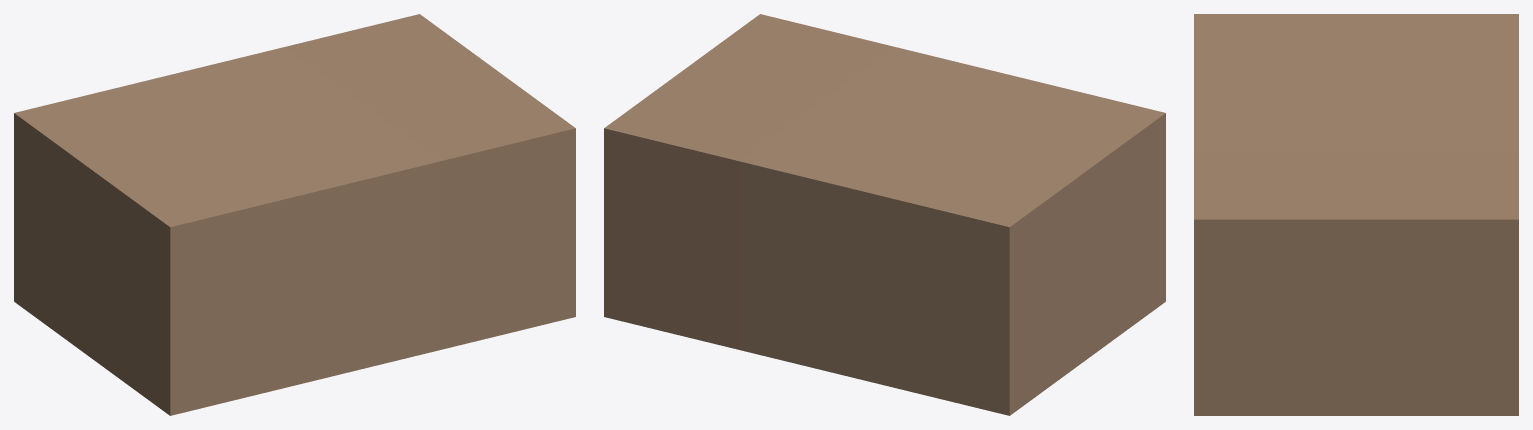
Rendered from yacimiento_arcilla_04.glb.
3 views of the same model, side by side, from view 1: azimuth 30°, elevation 25°; view 2: azimuth 150°, elevation 25°; view 3: azimuth 270°, elevation 25° (orthographic). The views are drawn at different scales.
Parts seen in each view (by area): view 1: yacimiento_arcilla_04; view 2: yacimiento_arcilla_04; view 3: yacimiento_arcilla_04.
Boxes of the visible parts, left/top/right/bottom form: yacimiento_arcilla_04: left=14, top=14, right=575, bottom=415; yacimiento_arcilla_04: left=604, top=14, right=1165, bottom=415; yacimiento_arcilla_04: left=1194, top=14, right=1518, bottom=415.
Size of the model in its own units: 0.9 by 0.4 by 0.6.
